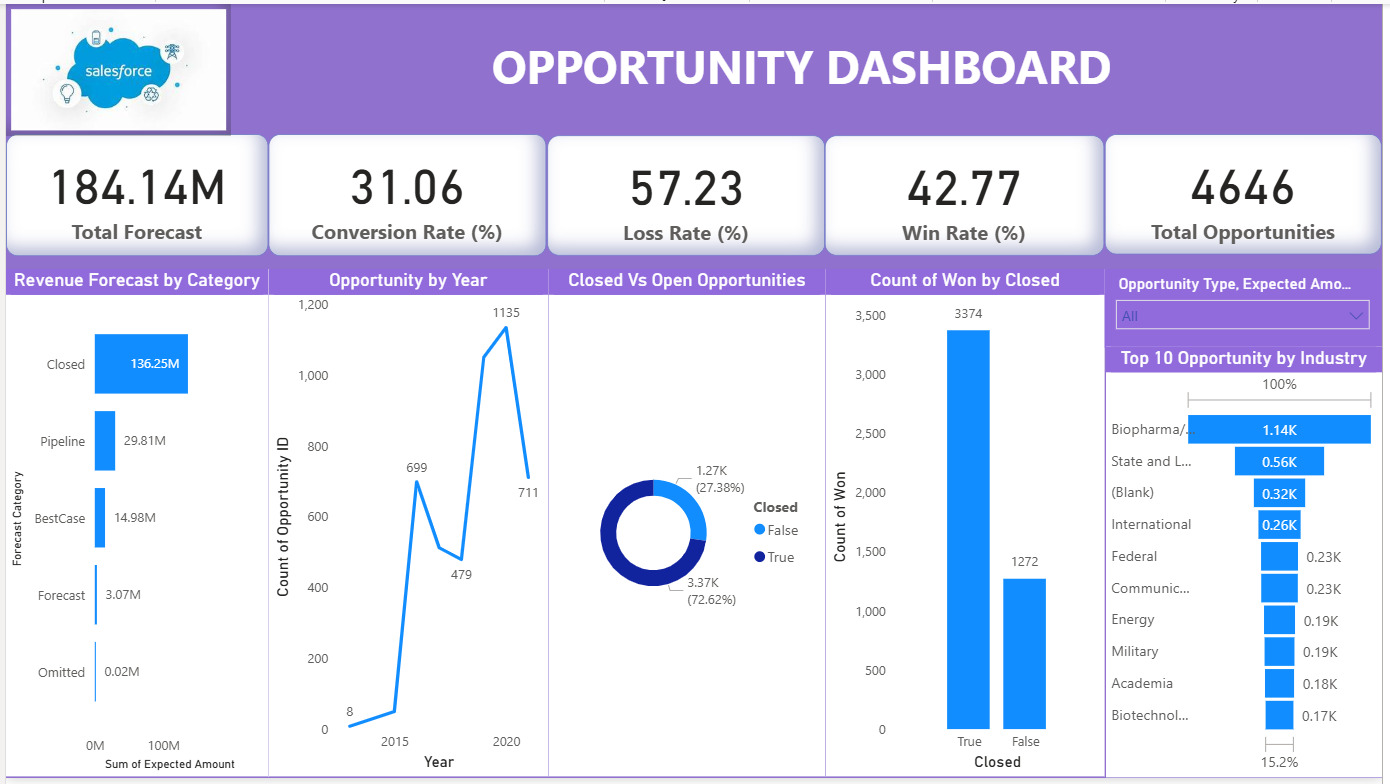

The dashboard page shown, as its layout file describes it:
{"tool":"powerbi","page":{"name":"Opportunity Dashboard","canvas":[1280,720],"ordinal":0},"visuals":[{"type":"card","fields":{"Values":["Sum(Opportunity table.Expected Amount)"]},"box":[0,120.6,244.2,113.3],"z":0},{"type":"textbox","box":[273.3,22.8,933.6,75.5],"z":1000},{"type":"card","fields":{"Values":["Opportunity table.Conversion Rate (%)"]},"box":[244.2,120.6,258.8,113.3],"z":2000},{"type":"card","fields":{"Values":["Opportunity table.Loss Rate (%)"]},"box":[503,121.6,258.8,112.2],"z":3000},{"type":"card","fields":{"Values":["Opportunity table.Win Rate (%)"]},"box":[761.8,121.6,259.8,112.2],"z":4000},{"type":"clusteredBarChart","title":"Revenue Forecast by Category","fields":{"Category":["Opportunity table.Forecast Category"],"Y":["Sum(Opportunity table.Expected Amount)"]},"box":[0,246.7,243.8,471.8],"z":5000},{"type":"image","box":[0,0,209.7,122.2],"z":6000},{"type":"card","fields":{"Values":["CountNonNull(Opportunity table.Opportunity ID)"]},"box":[1021.6,120.6,257.7,112.2],"z":7000},{"type":"lineChart","title":"Opportunity by Year ","fields":{"Category":["Opportunity table.Created Date.Variation.Date Hierarchy.Year"],"Y":["CountNonNull(Opportunity table.Opportunity ID)"]},"box":[244,247,260,472],"z":8000},{"type":"donutChart","title":"Closed Vs Open Opportunities","fields":{"Category":["Opportunity table.Closed"],"Y":["CountNonNull(Opportunity table.Opportunity ID)"]},"box":[504.6,246.9,257.7,472.2],"z":9000},{"type":"lineStackedColumnComboChart","fields":{"Category":["Opportunity table.Closed"],"Y":["CountNonNull(Opportunity table.Won)"]},"box":[763,247,259,472],"z":10000},{"type":"slicer","fields":{"Values":["Opportunity table.Opportunity Type","Opportunity table.Expected Amount"]},"box":[1022.6,246.3,256.7,72.7],"z":11000},{"type":"funnel","title":"Top 10 Opportunity by Industry","fields":{"Category":["Opportunity table.Industry"],"Y":["CountNonNull(Opportunity table.Opportunity ID)"]},"box":[1023.1,318.3,256.6,401.1],"z":12000}]}

Visuals, with their boxes in screenshot pixels (x1, y1, x2, y2), scaled from the page's 1280x720 canvas onto the 1390x784 screenshot:
card - Sum(Opportunity table.Expected Amount): region(0, 131, 265, 255)
textbox: region(297, 25, 1311, 107)
card - Opportunity table.Conversion Rate (%): region(265, 131, 546, 255)
card - Opportunity table.Loss Rate (%): region(546, 132, 827, 255)
card - Opportunity table.Win Rate (%): region(827, 132, 1109, 255)
"Revenue Forecast by Category" clusteredBarChart: region(0, 269, 265, 782)
image: region(0, 0, 228, 133)
card - CountNonNull(Opportunity table.Opportunity ID): region(1109, 131, 1389, 253)
"Opportunity by Year " lineChart: region(265, 269, 547, 783)
"Closed Vs Open Opportunities" donutChart: region(548, 269, 828, 783)
lineStackedColumnComboChart - Opportunity table.Closed x CountNonNull(Opportunity table.Won): region(829, 269, 1110, 783)
slicer - Opportunity table.Opportunity Type x Opportunity table.Expected Amount: region(1110, 268, 1389, 347)
"Top 10 Opportunity by Industry" funnel: region(1111, 347, 1389, 783)
